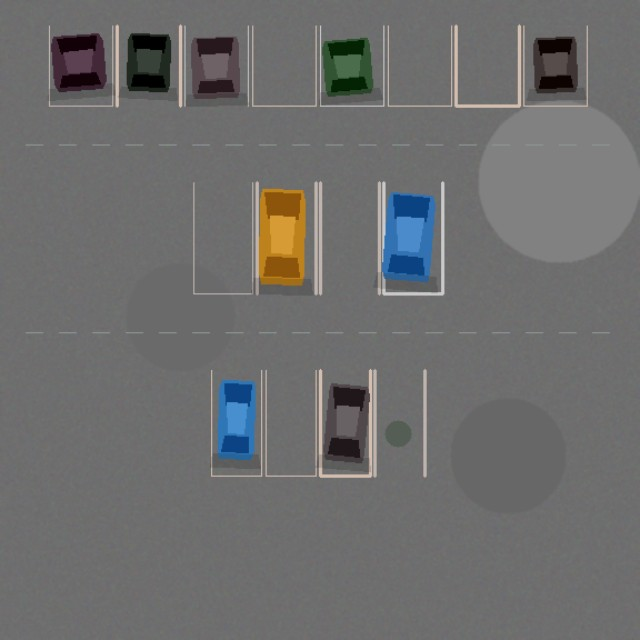space-empty: (193, 182, 252, 293), (320, 182, 379, 293), (266, 370, 316, 476), (374, 370, 424, 476), (252, 26, 316, 106), (388, 26, 451, 106), (456, 26, 519, 106)
space-occupied: (257, 182, 316, 293), (383, 182, 442, 293), (211, 370, 261, 476), (320, 370, 370, 476), (184, 26, 248, 106), (523, 26, 587, 106), (49, 26, 112, 106), (117, 26, 180, 106), (320, 26, 383, 106)
